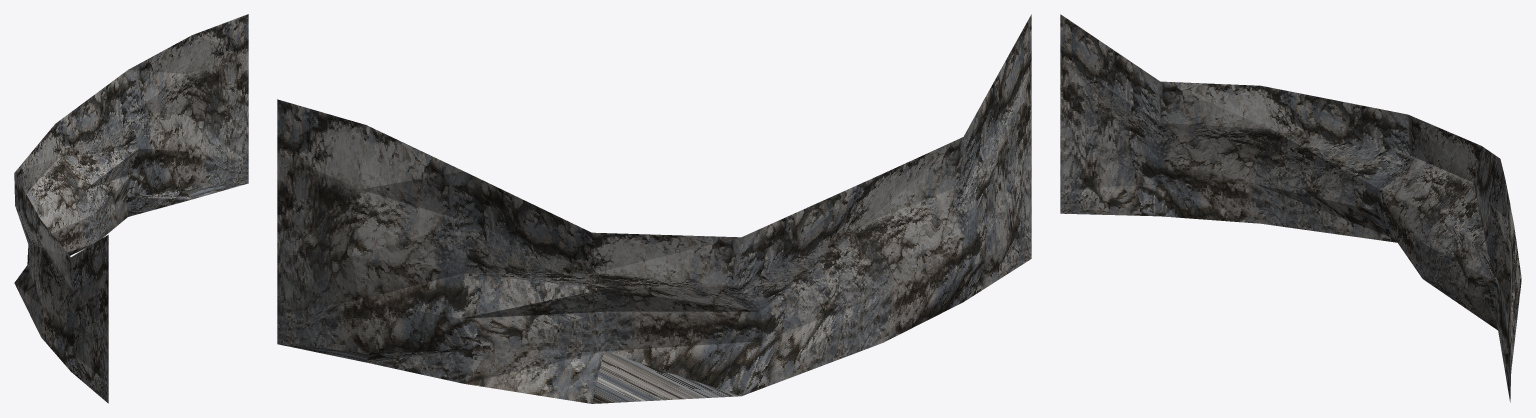
File: lowWallToplowWallTop_03_corner_02.glb
3 renders of one model, left to right at view 1: azimuth 30°, elevation 25°; view 2: azimuth 150°, elevation 25°; view 3: azimuth 270°, elevation 25°, orthographic. The views are drawn at different scales.
Visible parts, largest first — view 1: lowWallTop_03_corner_02; view 2: lowWallTop_03_corner_02; view 3: lowWallTop_03_corner_02.
Boxes of the visible parts, x1,y1,x2,y2 form: lowWallTop_03_corner_02: (14,14,248,403); lowWallTop_03_corner_02: (277,14,1031,403); lowWallTop_03_corner_02: (1060,14,1521,402).
Size of the model in its own units: 16.02 by 7.83 by 16.41.
1 material, 1 textured.
